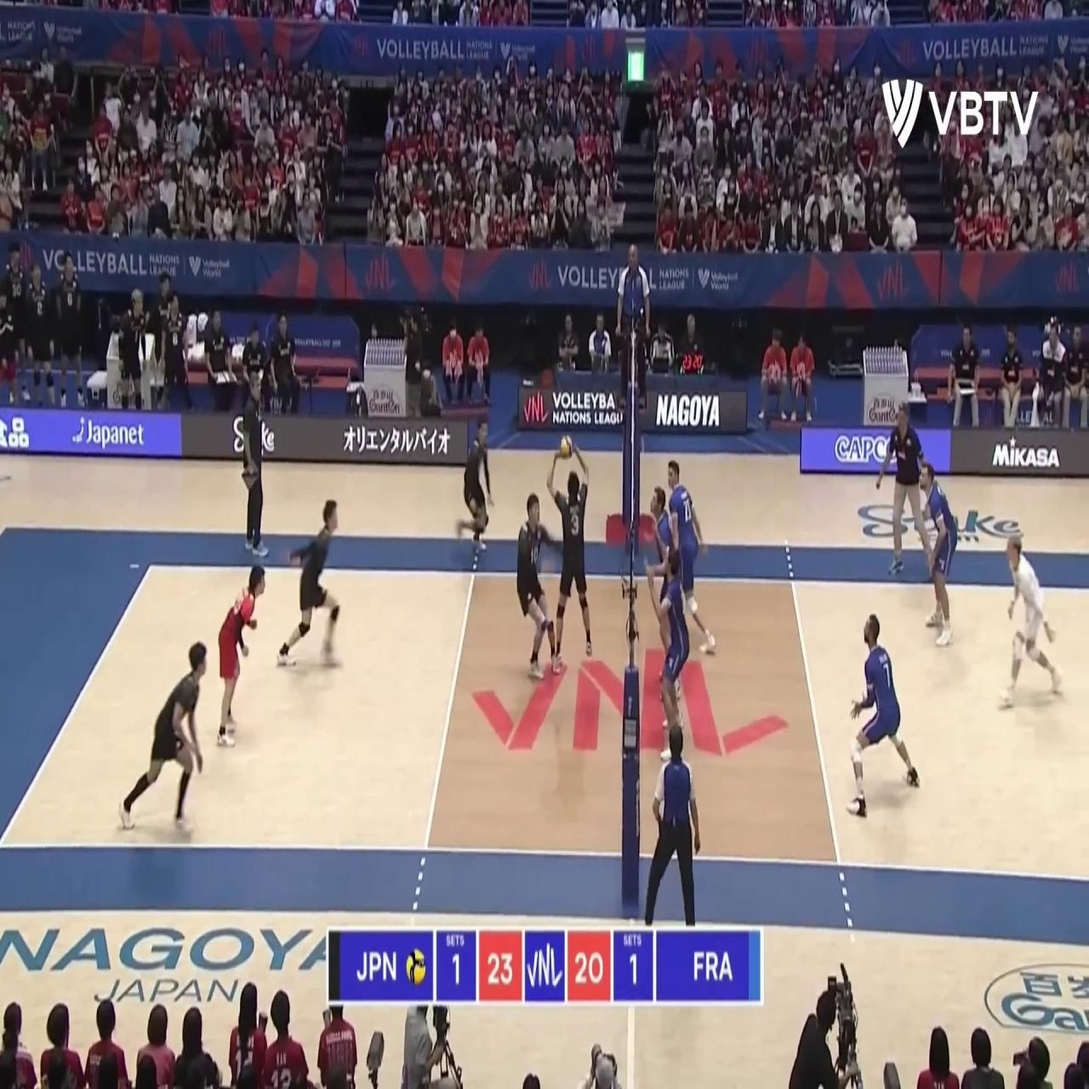ball: (558, 435, 573, 460)
